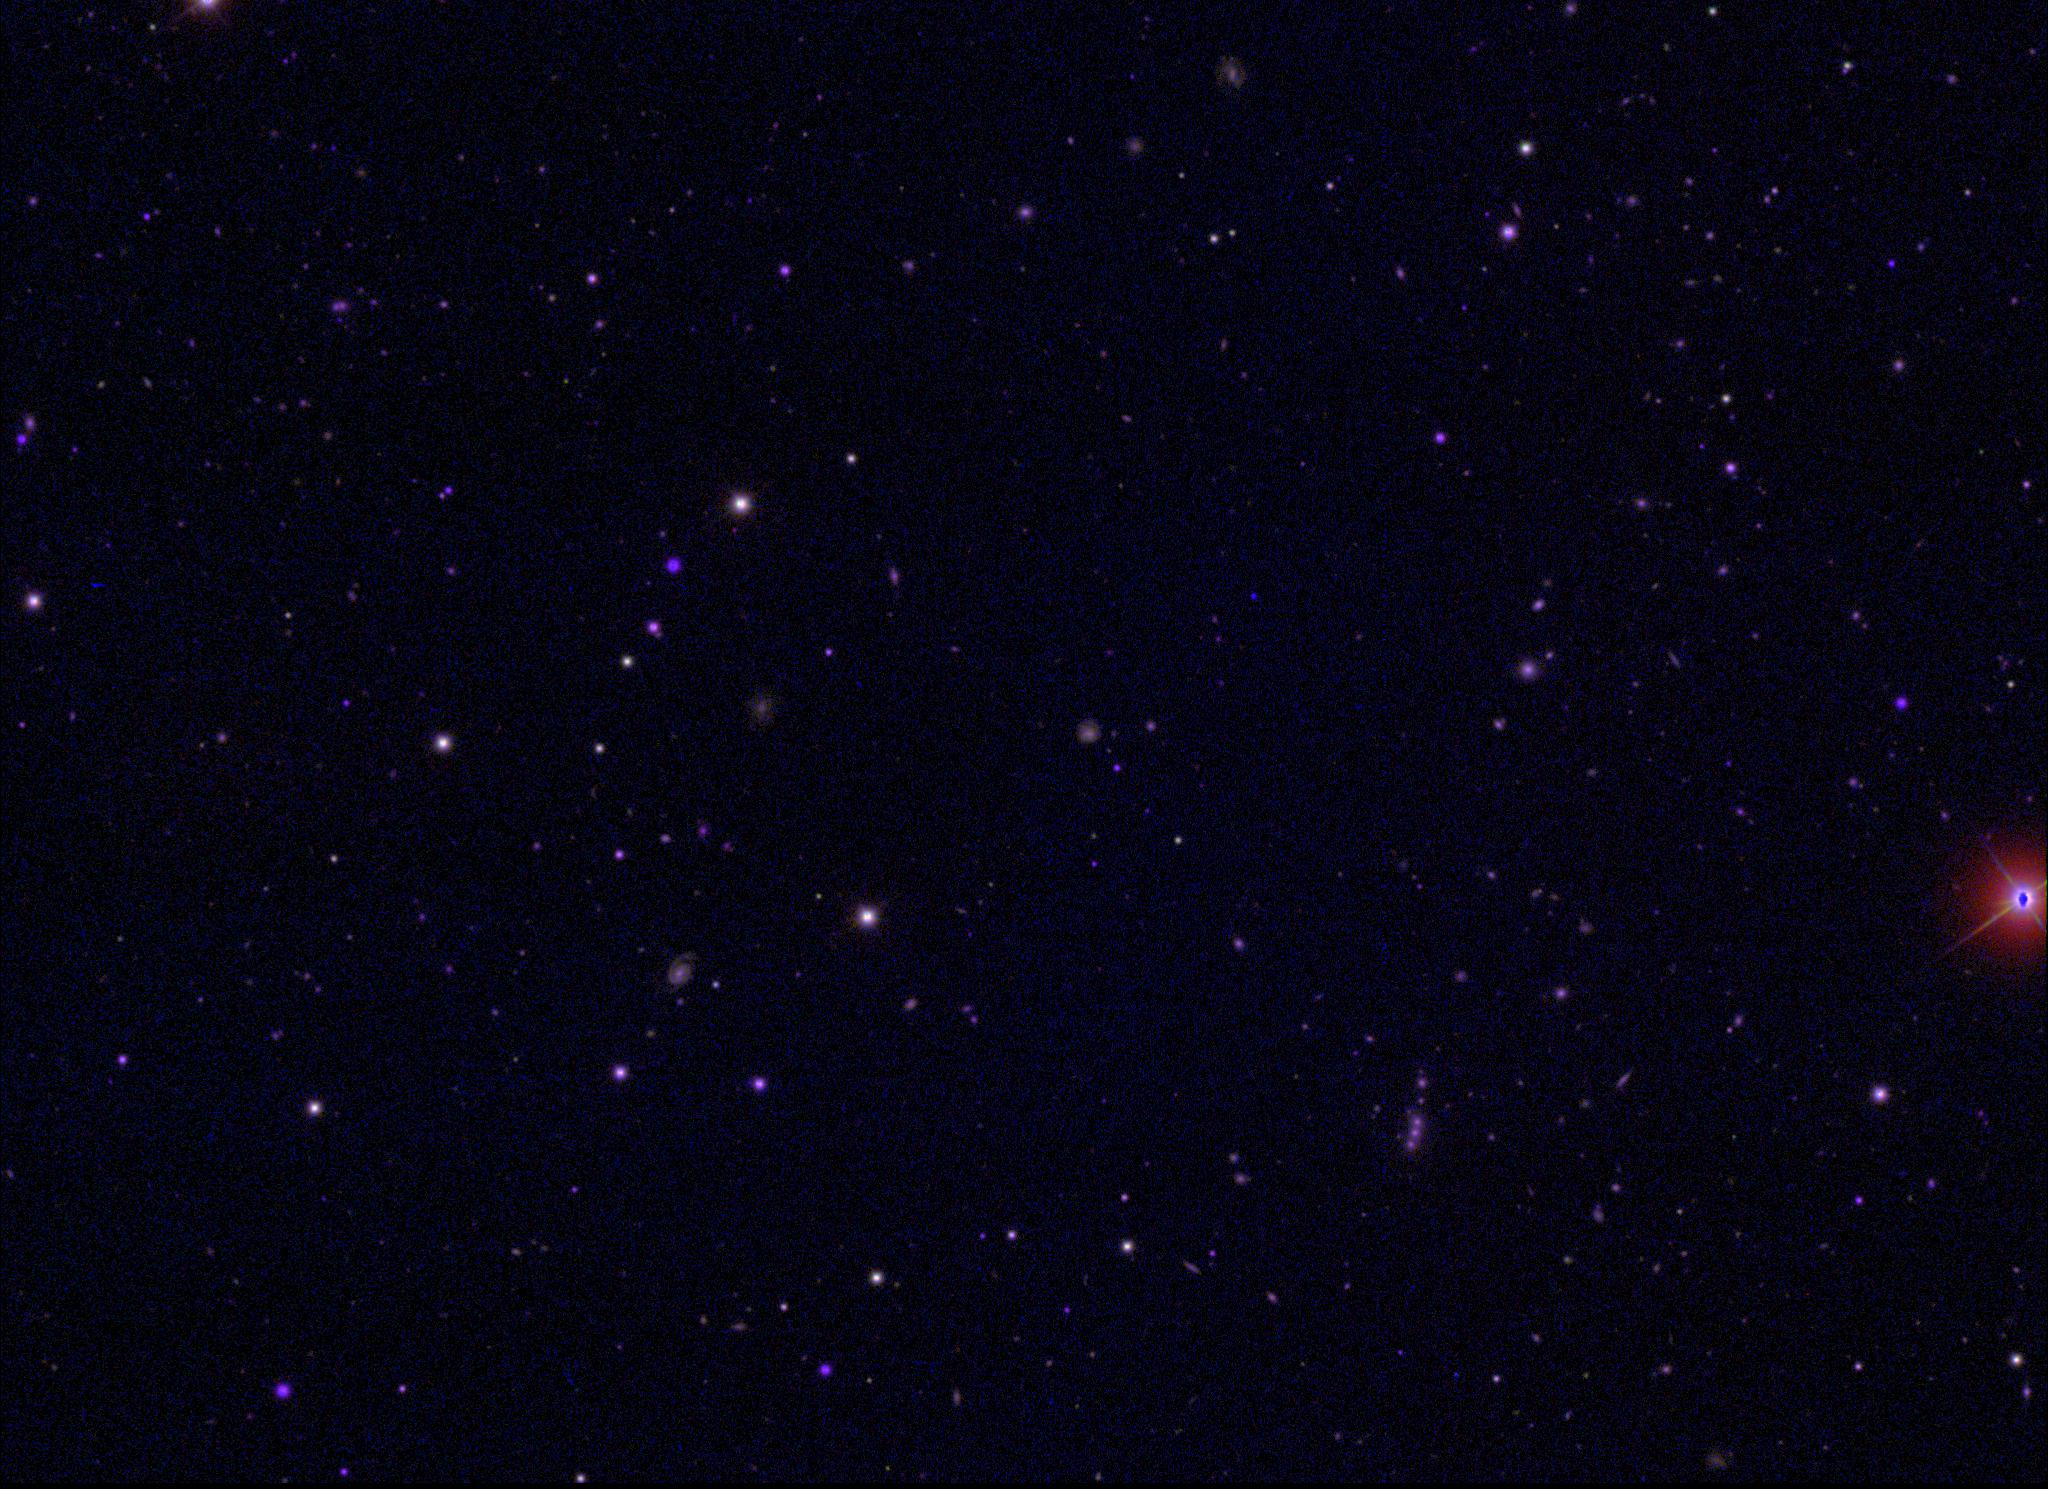L: (1247, 589, 1259, 603)
